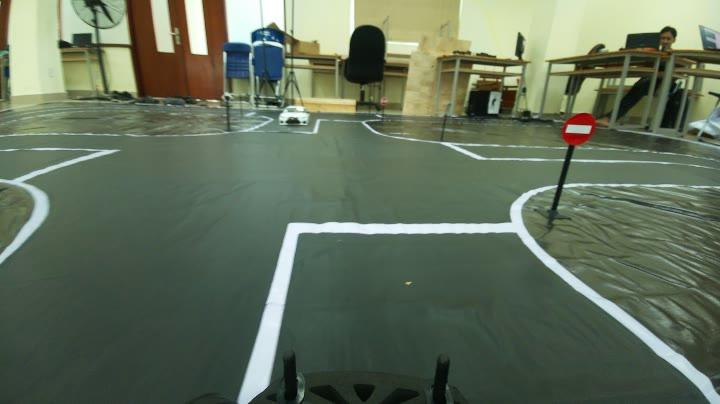no_entry: (563, 110, 595, 152)
